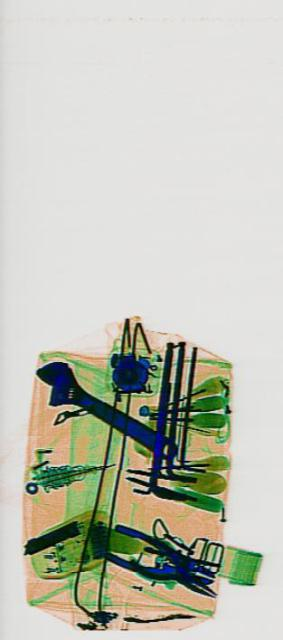Pliers: (104, 516, 215, 602), (127, 527, 220, 605)
Wrench: (29, 345, 178, 477)
